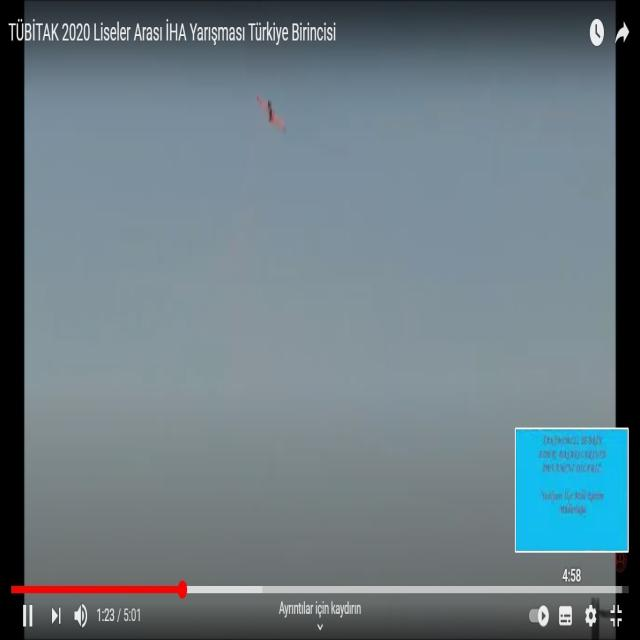iha: (256, 29, 287, 72)
